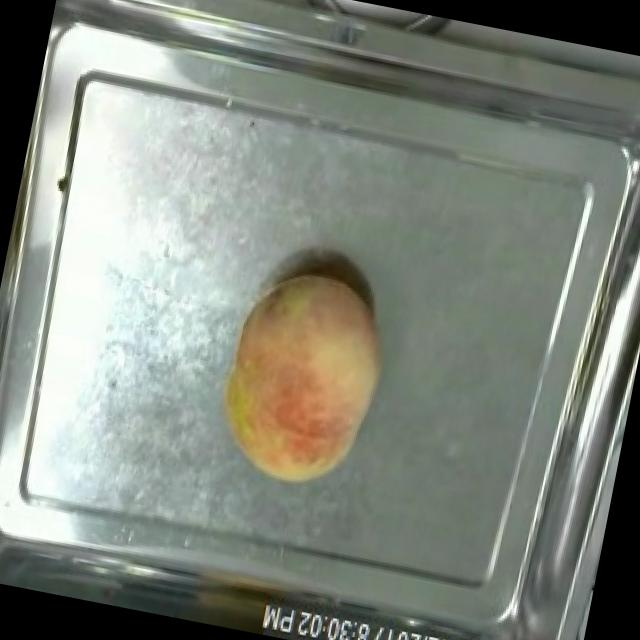Fruit: (200, 254, 408, 506)
